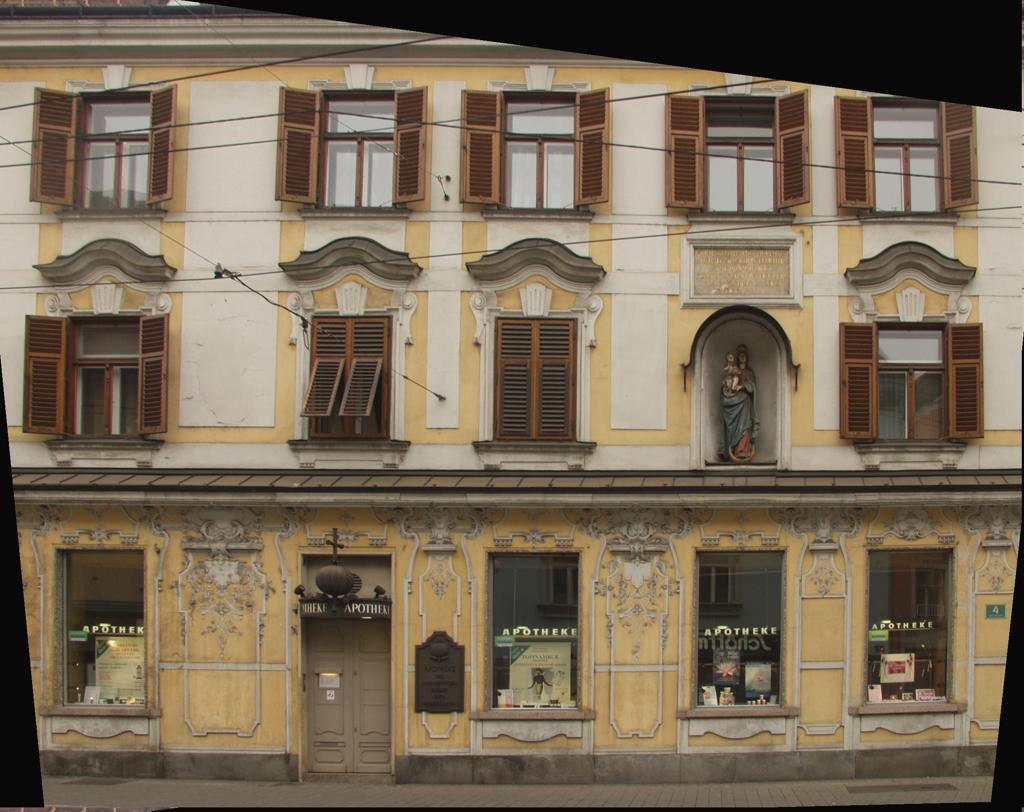window: (65, 316, 141, 444), (319, 93, 396, 210), (75, 93, 151, 210), (874, 95, 950, 212), (500, 321, 576, 438), (500, 92, 576, 208), (704, 97, 780, 213), (873, 324, 949, 440), (312, 319, 388, 435)
